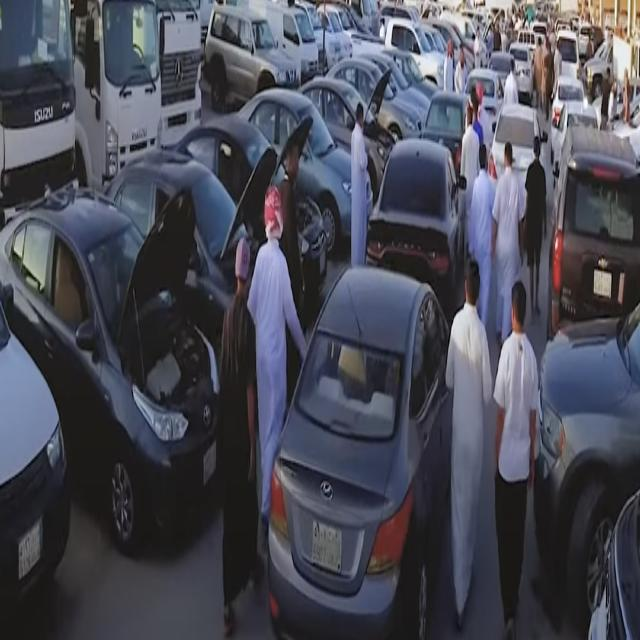license_plate: (308, 522, 345, 579), (16, 516, 42, 588), (592, 264, 614, 308), (201, 441, 218, 494), (320, 249, 326, 275)
